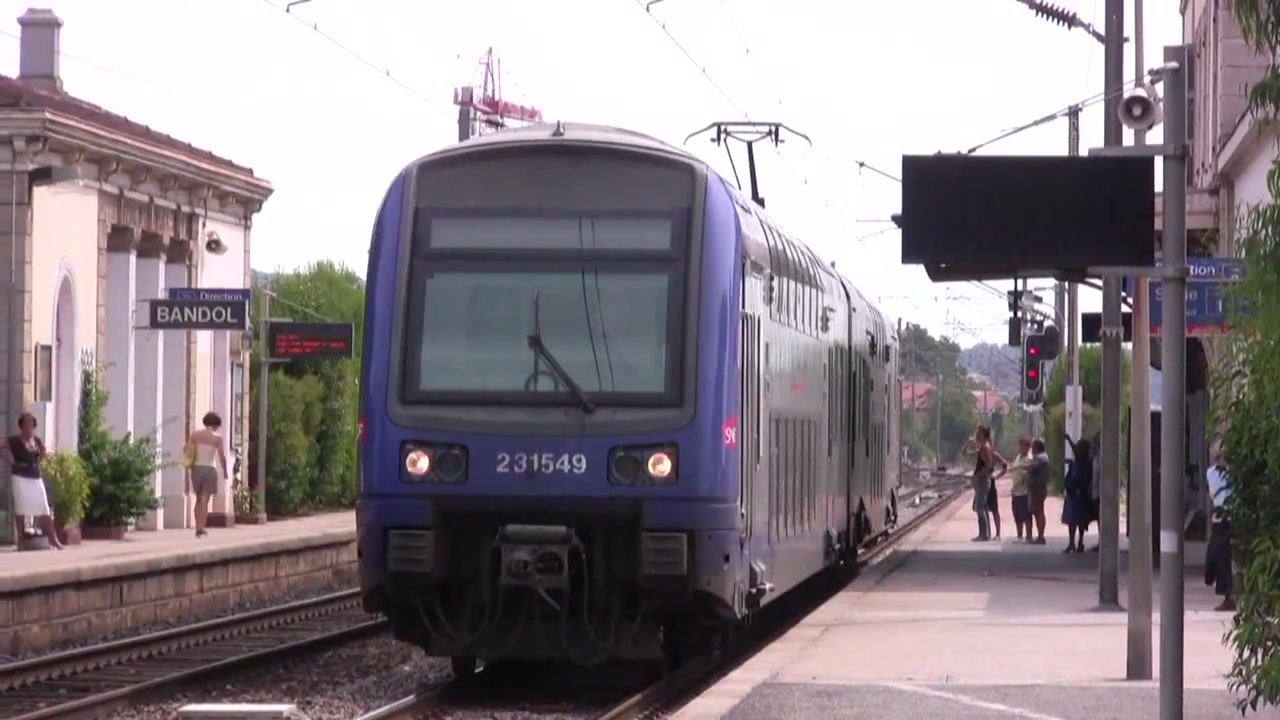train: (349, 123, 908, 663)
